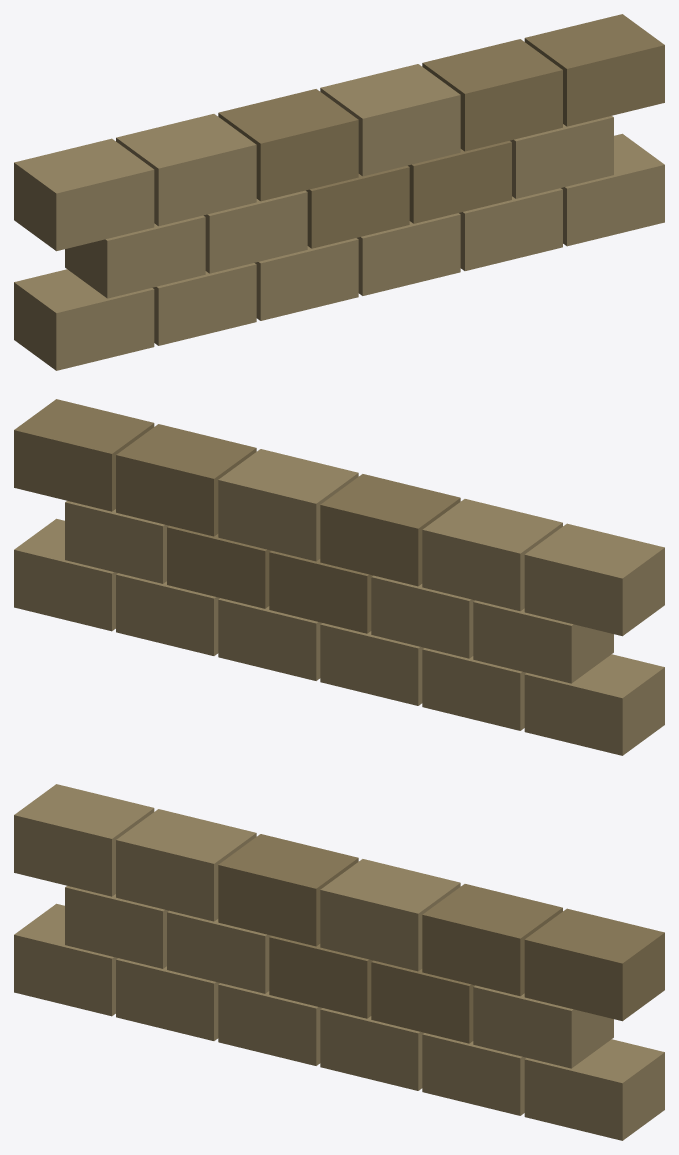
Rendered from ub_sandbags_lod1.glb.
3 views of the same model, one above another, from view 1: azimuth 30°, elevation 25°; view 2: azimuth 150°, elevation 25°; view 3: azimuth 330°, elevation 25° (orthographic).
Parts seen in each view (by area): view 1: ub_sandbags_lod1; view 2: ub_sandbags_lod1; view 3: ub_sandbags_lod1.
Boxes of the visible parts, box(x1,y1,x2,y2) form: ub_sandbags_lod1: box(14, 14, 664, 370); ub_sandbags_lod1: box(14, 399, 664, 755); ub_sandbags_lod1: box(14, 784, 664, 1140).
Size of the model in its own units: 2.98 by 0.83 by 0.36.
